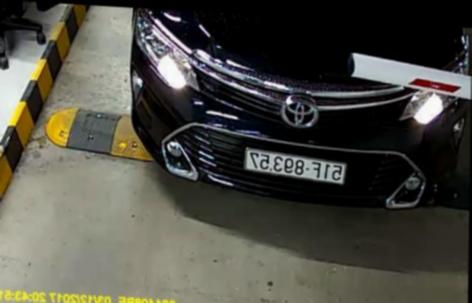License_Plate: (232, 143, 354, 190)
